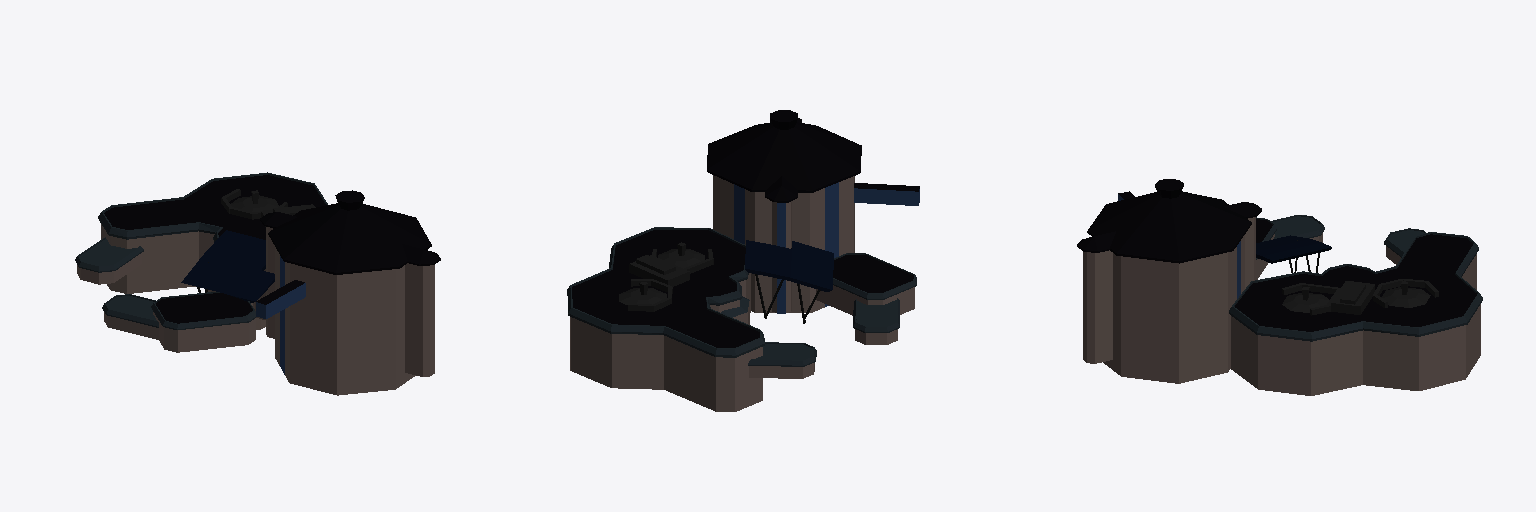
The model's file is sirmichaelcobhamlibrary_model_published.obj.
3 views of the same model, side by side, from view 1: azimuth 30°, elevation 25°; view 2: azimuth 150°, elevation 25°; view 3: azimuth 270°, elevation 25° (orthographic).
Visible parts, largest first — view 1: Cube.049, Cube.048, Cube.043, Cube.042, Plane.011, Cube.050, Cube.047, Cube.046, Cube.052, Cube.039, Cube.041, Cube.054 (+3 smaller); view 2: Cube.043, Cube.042, Cube.048, Cube.049, Cube.052, Plane.011, Cube.047, Cube.050, Cube.041, Cube.039, Cube.054, Cube.046 (+2 smaller); view 3: Cube.049, Cube.042, Cube.043, Cube.048, Cube.050, Cube.052, Plane.011, Cube.041, Cube.051, Cube.039.
Boxes of the visible parts, <box> form: Cube.049: <box>275,247,415,395</box>; Cube.048: <box>268,190,431,274</box>; Cube.043: <box>98,172,327,241</box>; Cube.042: <box>101,224,265,319</box>; Plane.011: <box>181,230,274,302</box>; Cube.050: <box>266,227,434,376</box>; Cube.047: <box>151,292,255,329</box>; Cube.046: <box>153,312,255,352</box>; Cube.052: <box>221,189,315,226</box>; Cube.039: <box>75,237,143,272</box>; Cube.041: <box>102,294,158,327</box>; Cube.054: <box>256,280,305,318</box>; Cube.043: <box>567,227,764,357</box>; Cube.042: <box>570,273,762,411</box>; Cube.048: <box>707,110,861,192</box>; Cube.049: <box>713,175,854,312</box>; Cube.052: <box>619,242,713,311</box>; Plane.011: <box>745,240,833,291</box>; Cube.047: <box>833,253,916,299</box>; Cube.050: <box>772,201,791,313</box>; Cube.041: <box>853,298,899,332</box>; Cube.039: <box>748,342,816,366</box>; Cube.054: <box>854,183,919,205</box>; Cube.046: <box>816,285,914,315</box>; Cube.049: <box>1103,235,1244,383</box>; Cube.042: <box>1231,254,1480,395</box>; Cube.043: <box>1229,232,1482,341</box>; Cube.048: <box>1087,179,1251,263</box>; Cube.050: <box>1083,217,1255,363</box>; Cube.052: <box>1282,279,1438,315</box>; Plane.011: <box>1256,235,1331,263</box>; Cube.041: <box>1271,215,1324,238</box>; Cube.051: <box>1077,202,1261,252</box>; Cube.039: <box>1384,228,1425,257</box>.
Size of the model in its own units: 82.43 by 50.43 by 103.